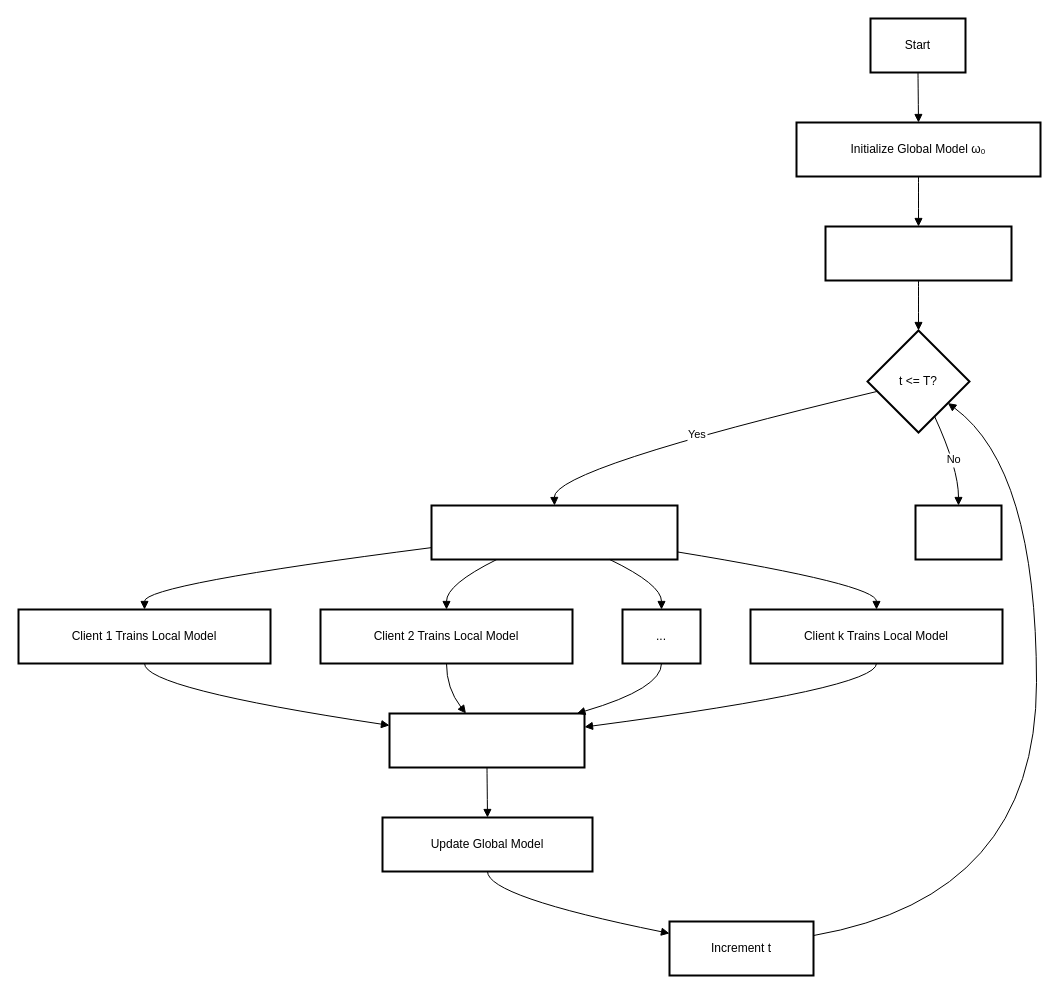
This 1058x993 diagram has some shape labels left out. The centre of each missing label's shape, as x and y in pixels:
"Aggregate Updates" belongs at (x=486, y=740).
"End" belongs at (x=958, y=532).
"Randomly Select k Clients" belongs at (x=554, y=532).
"Training Rounds T" belongs at (x=918, y=253).
